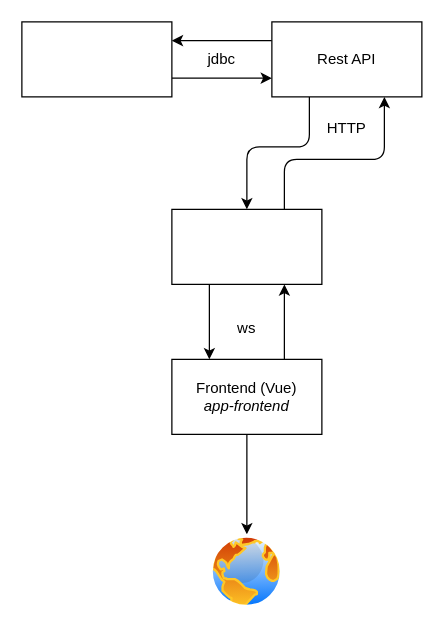
Image size: 444x631. Some labels were removed from this diagram. The shapes that lost their labels are listed below. From the top down, each one's centre as x and y in pixels, then its label:
point 96,59: Database (sqlite, mariadb??)
point 246,246: Websocket server app-ws-server
